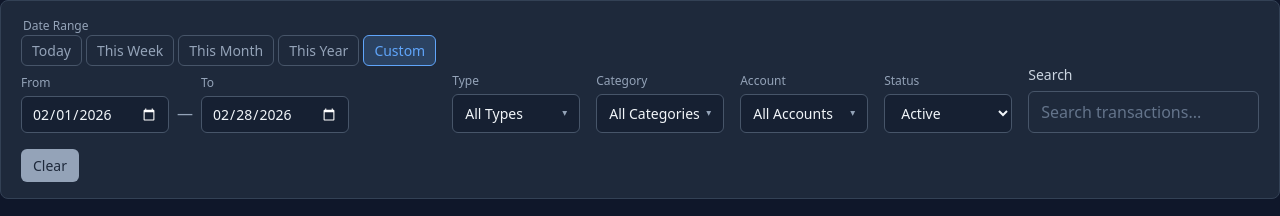
TransactionFilters › account filter › renders empty account dropdown (only All Accounts) when no accounts passed
Click the button labelled "All Accounts ▾": (804, 114) [740,94,868,133]
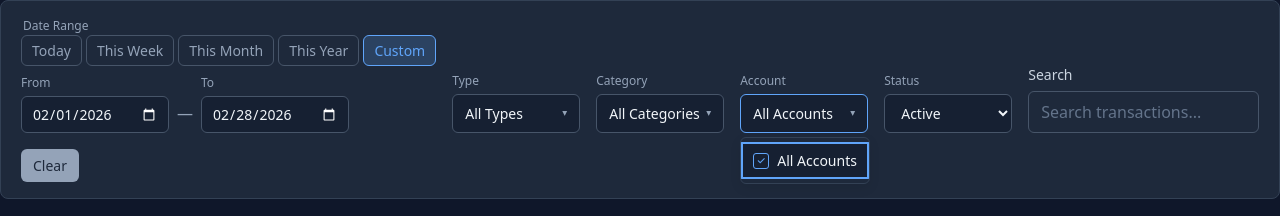
Check: the number of options is 1, box [741,142,869,179]
